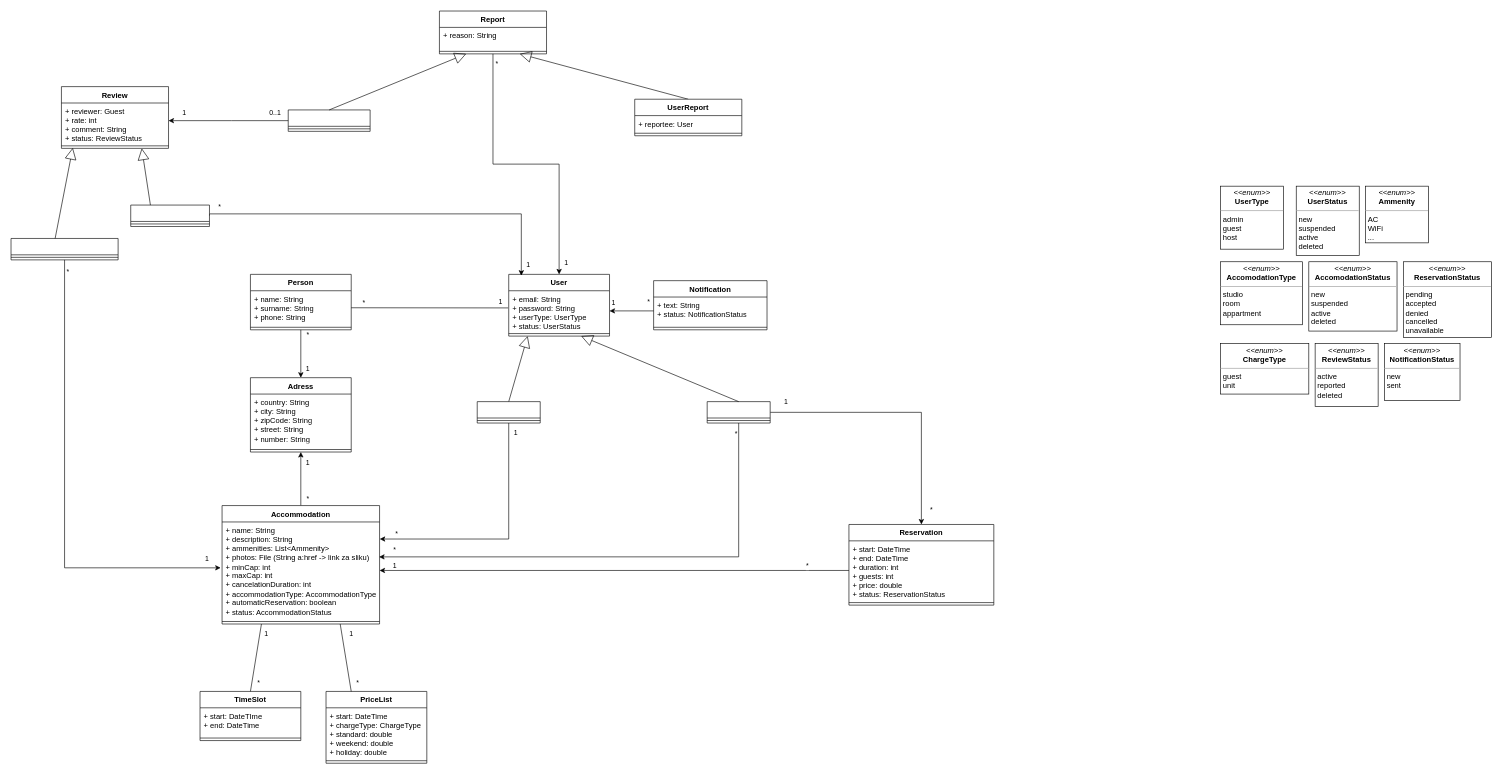
Image size: 1503x774. Some labels were removed from this diagram. The shapes that lost their labels are listed below. From the top down, each one's centre as x and y in pixels, then its label:
the point at 329,120: ReviewReport
the point at 169,215: UserReview
the point at 64,249: AccommodationReview
the point at 508,412: Host
the point at 738,412: Guest
